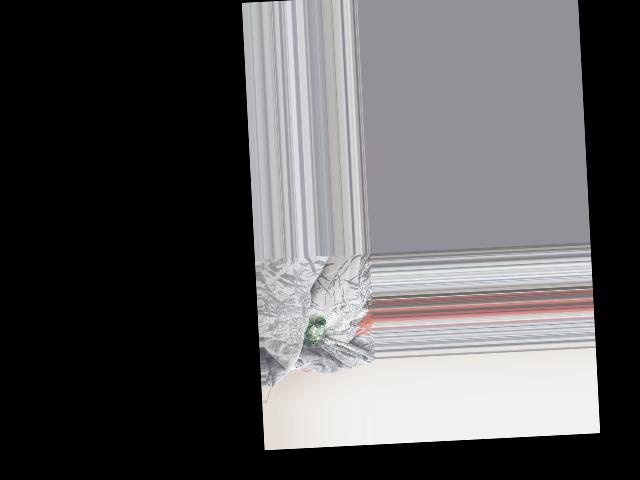beer: (303, 317, 326, 346)
